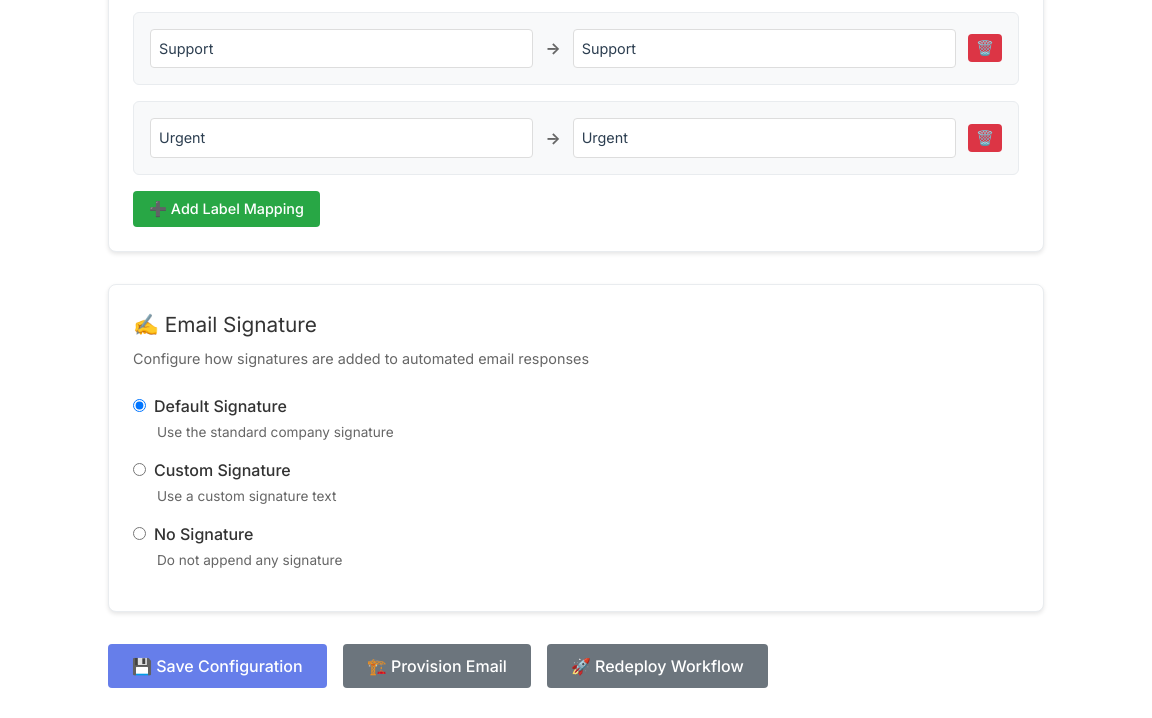
Scenario: EmailAutomationSettings › should handle provision action
(page scrolled)
What coordinates should you click on to do the following:
click the button "🏗️ Provision Email"
I would click on:
 (437, 666)
Its box is 343,644 -> 531,688.
(page scrolled)
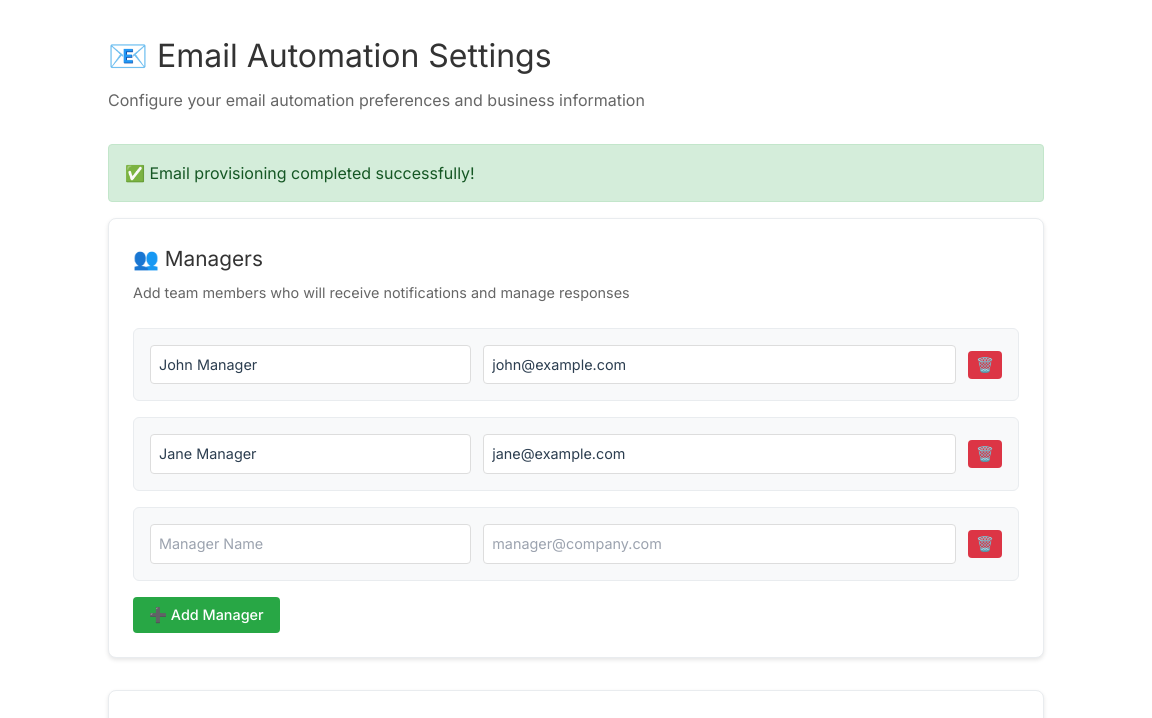
Expected: the text "✅ Email provisioning completed successfully!" is shown, 108,144 -> 1044,202
